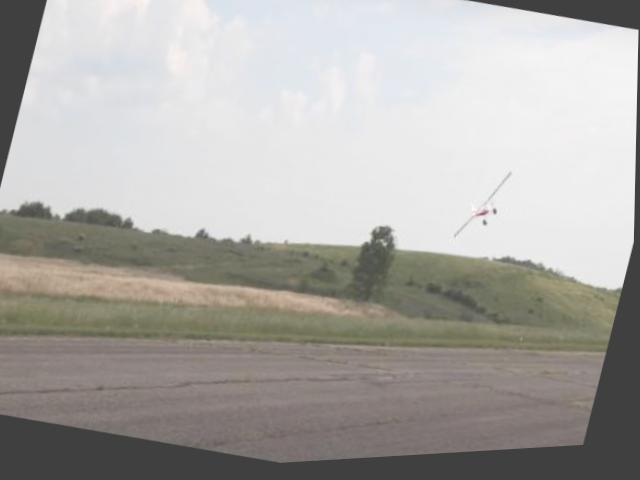uav: (448, 160, 519, 258)
